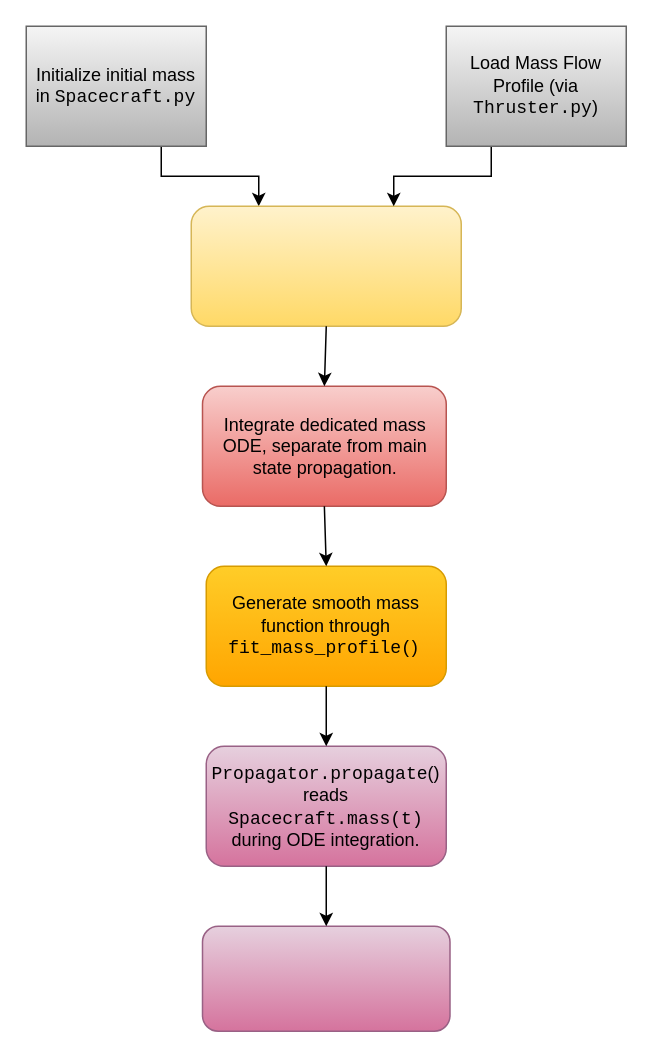
The diagram is 653 pixels wide and 1058 high, and some of its shapes have lost their labels. The shapes that lost their labels are listed below. From the top down, each one's box as (x1, y1, x2, y2) in pixels, then its label:
(190, 205, 461, 326): Call initialize_dynamic_mass() within Propagator.py
(201, 925, 450, 1031): Trajectory.py saves profile fit through JSON file.
